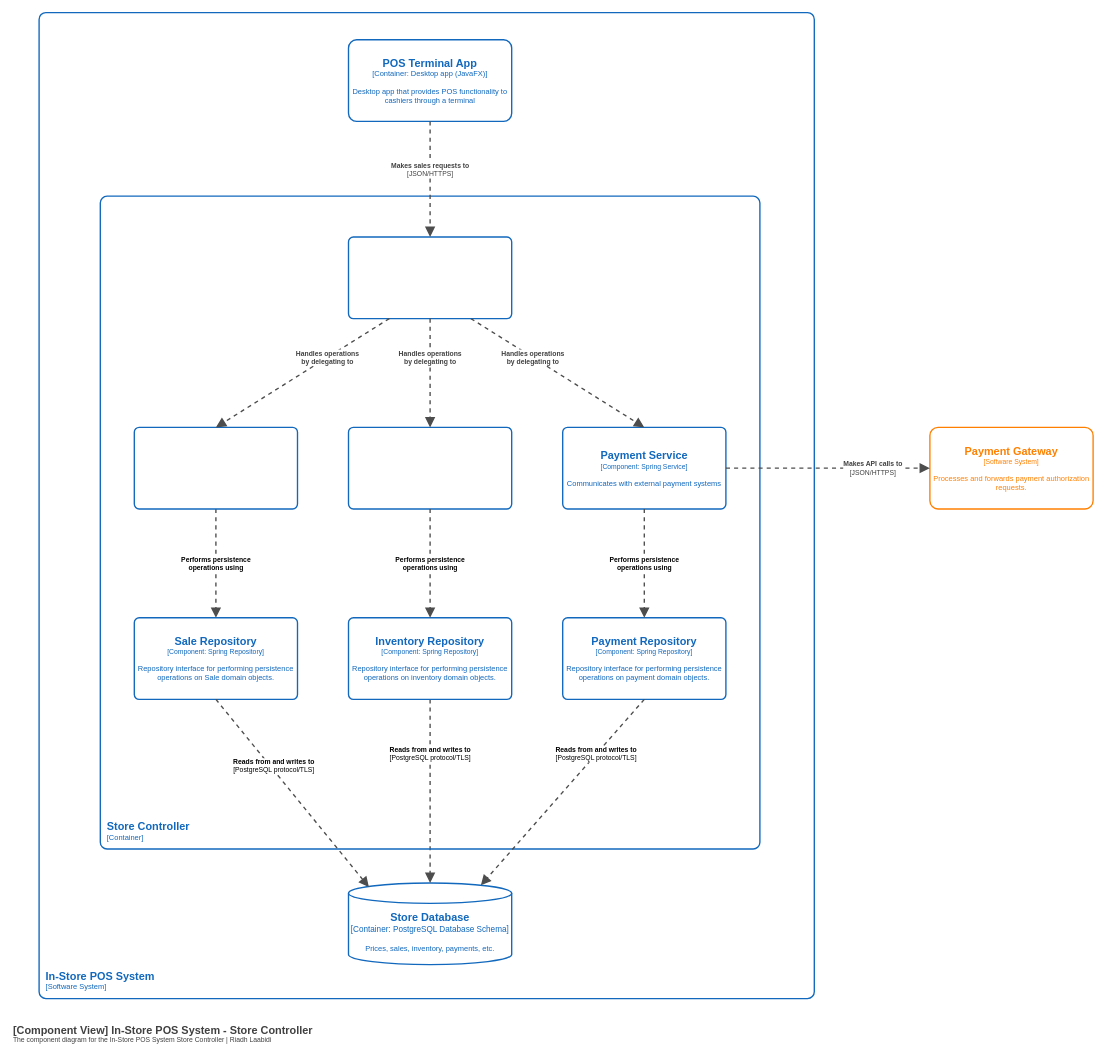
Some shapes in this 1105 by 1057 pixel diagram are drawn without their labels. The shapes that lost their labels are listed below. From the top down, each one's centre as x and y in pixels, then its label:
At point (429, 277): "Sale API [Component: Spring MVC Controller] API Endpoint for sale operations.".
At point (215, 467): "Sale Service [Component: Spring Service] Orchestrates use cases and txns".
At point (429, 467): "Inventory Service [Component: Spring Service] Manipulates ledger".
